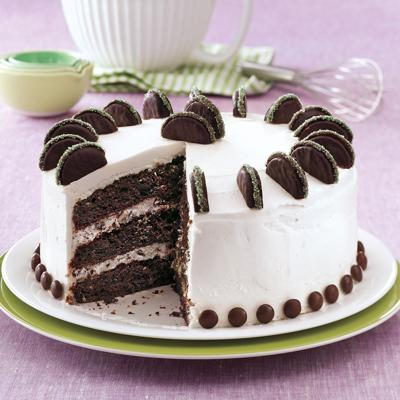cake: (32, 84, 368, 335)
